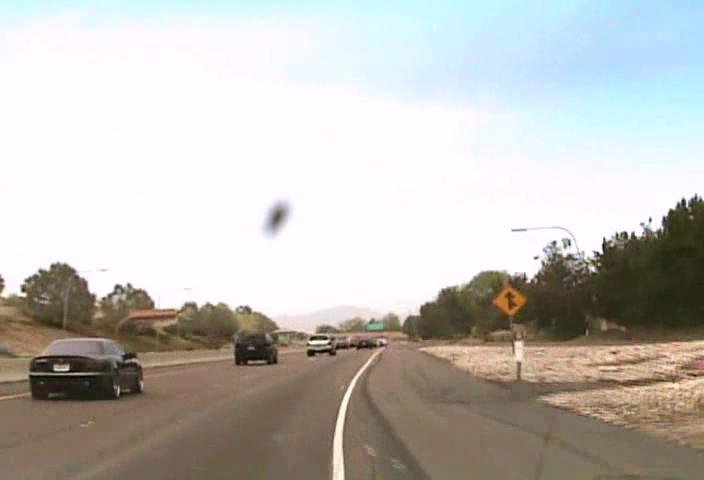merge: (490, 282, 527, 318)
